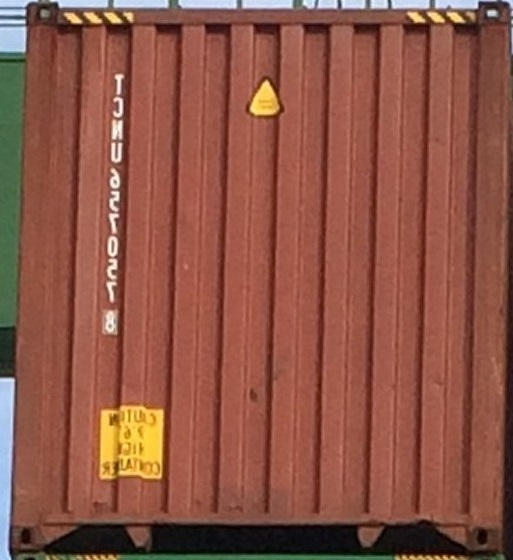container_no_door: (18, 1, 512, 551)
